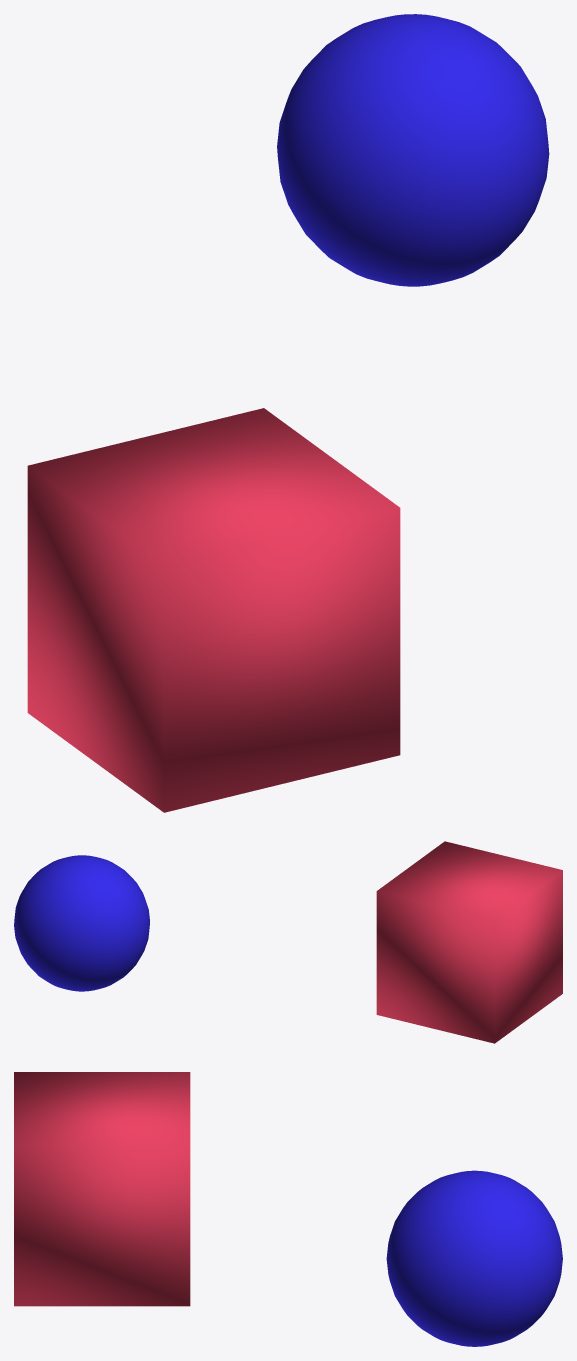
The model's file is aframetestscene.glb.
The picture shows the model from 3 angles, top to bottom: view 1: azimuth 30°, elevation 25°; view 2: azimuth 150°, elevation 25°; view 3: azimuth 270°, elevation 25°; orthographic projection. The views are drawn at different scales.
Parts seen in each view (by area): view 1: Cube, Sphere; view 2: Cube, Sphere; view 3: Cube, Sphere.
Part boxes in pixels (x1=…): Cube: x1=27, y1=408, x2=400, y2=812; Sphere: x1=277, y1=14, x2=549, y2=286; Cube: x1=376, y1=841, x2=562, y2=1043; Sphere: x1=14, y1=855, x2=149, y2=991; Cube: x1=14, y1=1072, x2=190, y2=1306; Sphere: x1=386, y1=1170, x2=562, y2=1346.
Size of what is drawn, in the model's own units: 6.12 by 3.05 by 6.22.
